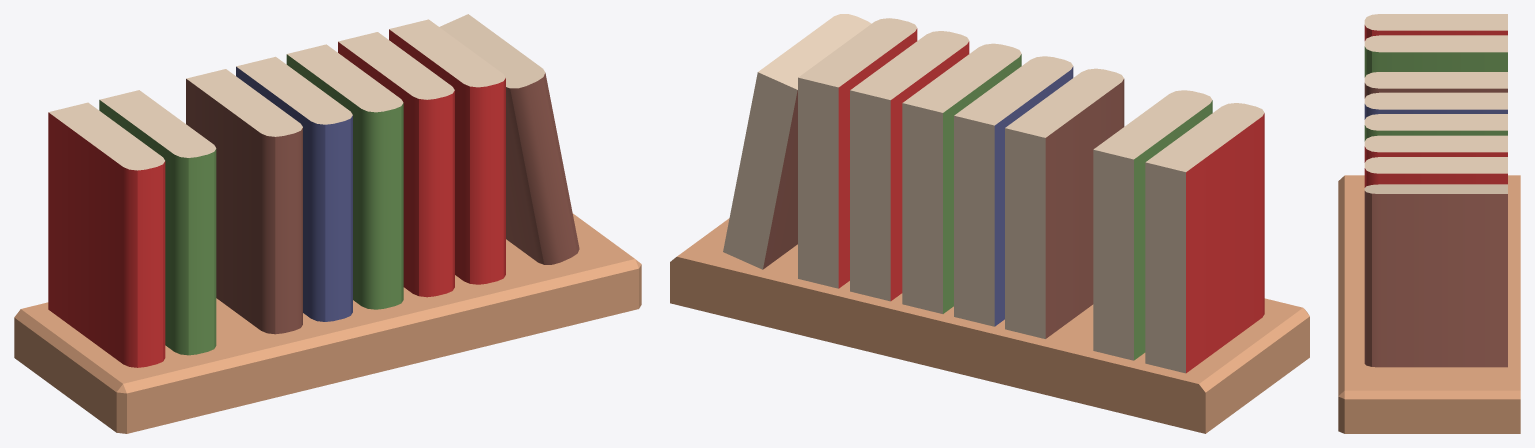
File: Shelf.fbx
3 renders of one model, left to right at view 1: azimuth 30°, elevation 25°; view 2: azimuth 150°, elevation 25°; view 3: azimuth 270°, elevation 25°, orthographic. The views are drawn at different scales.
Visible parts, largest first — view 1: Shelf.001, Book, Book.003, Book.002, Book.006, Book.007, Book.005, Book.004, Book.008; view 2: Shelf.001, Book, Book.003, Book.006, Book.002, Book.007, Book.005, Book.004, Book.008; view 3: Book.008, Shelf.001, Book.002, Book.007, Book.005, Book, Book.006, Book.004, Book.003.
Part boxes in pixels (x1=…): Shelf.001: x1=14, y1=213, x2=641, y2=433; Book: x1=48, y1=102, x2=165, y2=367; Book.003: x1=186, y1=69, x2=302, y2=334; Book.002: x1=99, y1=90, x2=216, y2=355; Book.006: x1=338, y1=32, x2=454, y2=297; Book.007: x1=389, y1=19, x2=505, y2=284; Book.005: x1=286, y1=44, x2=403, y2=309; Book.004: x1=236, y1=56, x2=352, y2=321; Book.008: x1=439, y1=14, x2=579, y2=264; Shelf.001: x1=670, y1=218, x2=1309, y2=433; Book: x1=1145, y1=103, x2=1264, y2=373; Book.003: x1=1005, y1=68, x2=1124, y2=338; Book.006: x1=850, y1=31, x2=969, y2=301; Book.002: x1=1093, y1=90, x2=1212, y2=360; Book.007: x1=798, y1=18, x2=917, y2=288; Book.005: x1=902, y1=43, x2=1021, y2=313; Book.004: x1=954, y1=56, x2=1073, y2=326; Book.008: x1=723, y1=14, x2=871, y2=269; Book.008: x1=1364, y1=184, x2=1507, y2=367; Shelf.001: x1=1338, y1=175, x2=1520, y2=433; Book.002: x1=1364, y1=35, x2=1507, y2=77; Book.007: x1=1364, y1=157, x2=1507, y2=187; Book.005: x1=1364, y1=114, x2=1507, y2=141; Book: x1=1364, y1=14, x2=1507, y2=40; Book.006: x1=1364, y1=135, x2=1507, y2=162; Book.004: x1=1364, y1=92, x2=1507, y2=119; Book.003: x1=1364, y1=72, x2=1507, y2=98.
Size of the model in its own units: 40 by 17.81 by 13.99.
